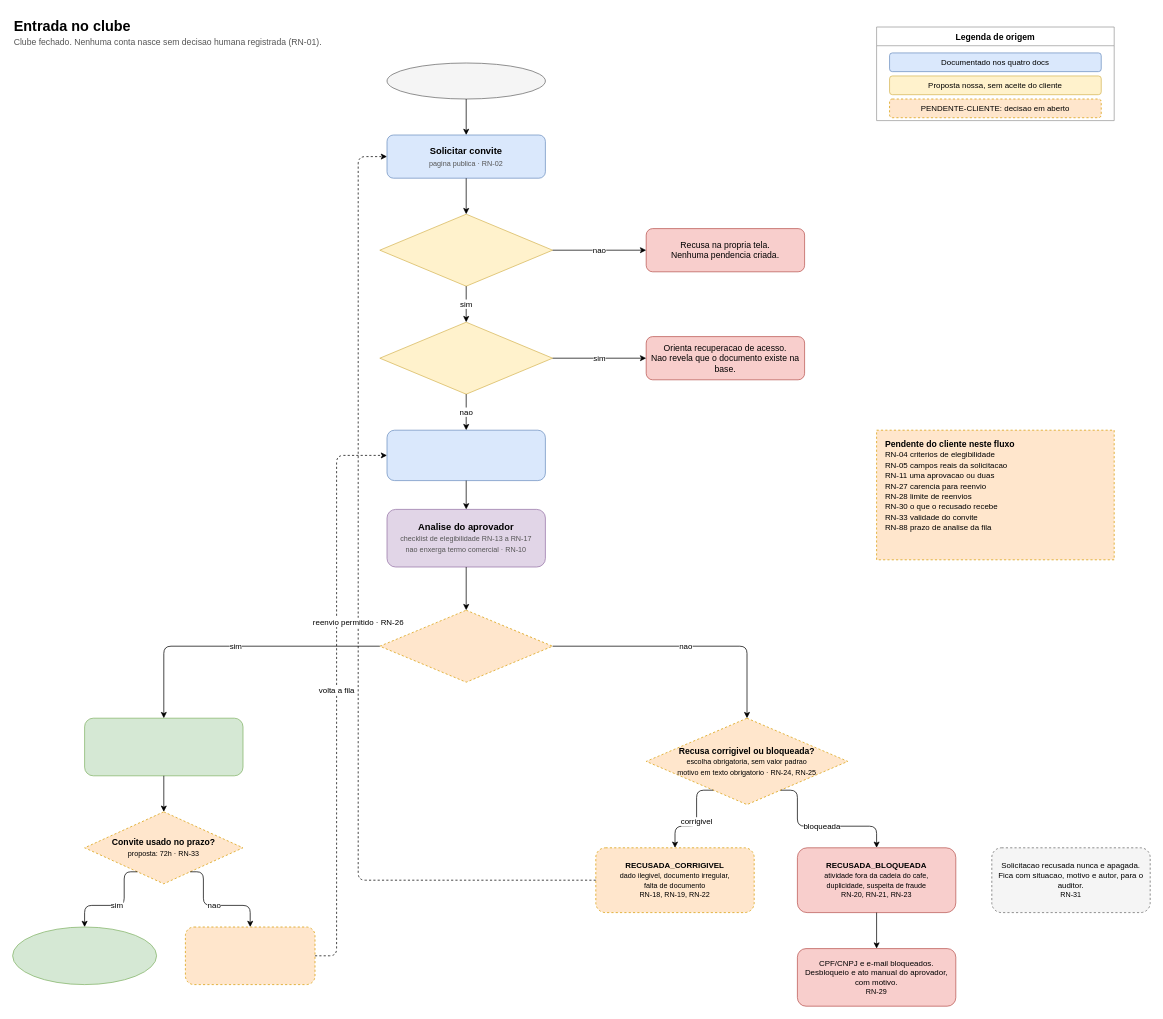
This 1163x1019 diagram has some shape labels left out. The centre of each missing label's shape, as x and y in pixels:
"Aprova? uma aprovacao basta · RN-11" belongs at (x=466, y=645).
"APROVADA Conta de membro criada sem senha. Convite por e-mail. RN-32" belongs at (x=163, y=746).
"Documento ja e de membro ativo? RN-07" belongs at (x=466, y=357).
"EXPIRADA Volta a fila do aprovador. sem nova solicitacao · RN-34" belongs at (x=250, y=955).
"Fila de solicitacoes EM_ANALISE so o backoffice ve · RN-08" belongs at (x=465, y=455).
"Formato valido? CPF/CNPJ, e-mail, telefone · RN-06" belongs at (x=466, y=249).
"MEMBRO ATIVO so ve registros em que e parte · RN-36" belongs at (x=84, y=955).
"Visitante" belongs at (x=465, y=80).
